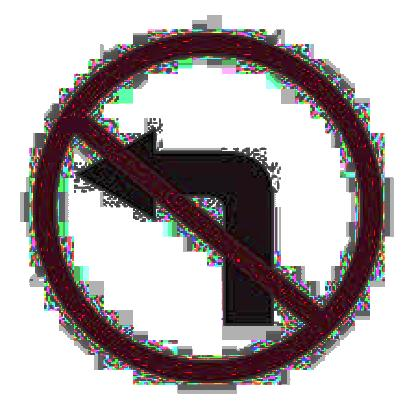No left turn: (32, 25, 392, 385)
